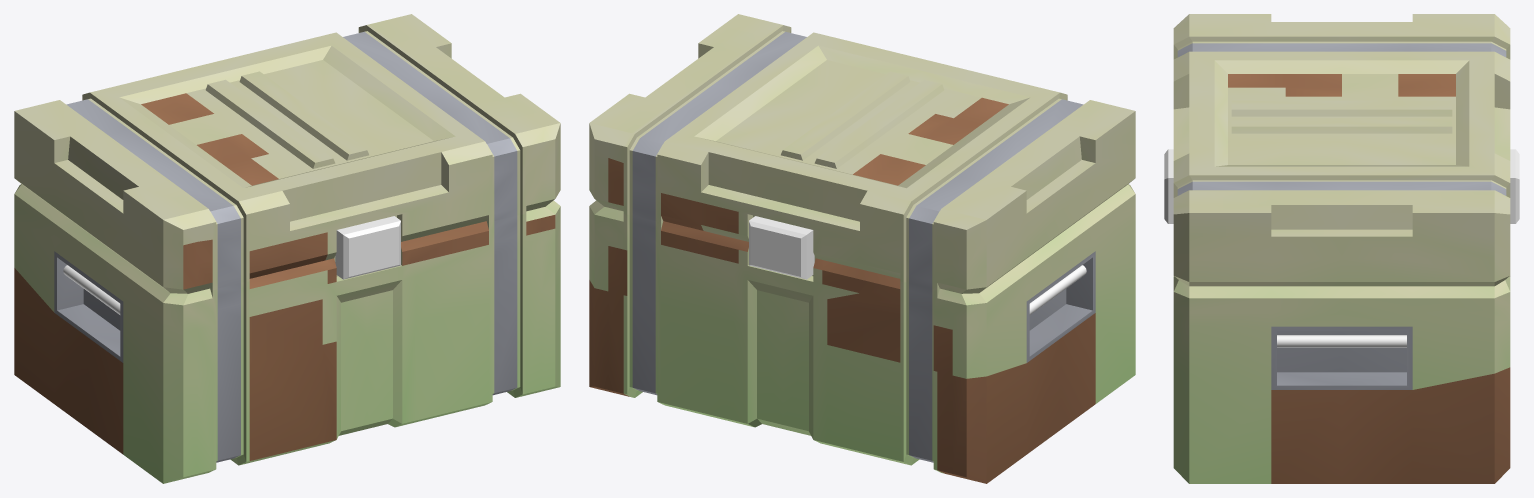
Rendered from Chest.glb.
3 views of the same model, side by side, from view 1: azimuth 30°, elevation 25°; view 2: azimuth 150°, elevation 25°; view 3: azimuth 270°, elevation 25° (orthographic). The views are drawn at different scales.
Visible parts, largest first — view 1: Chest; view 2: Chest; view 3: Chest.
Boxes of the visible parts, left/top/right/bottom form: Chest: left=14, top=14, right=560, bottom=483; Chest: left=589, top=14, right=1135, bottom=483; Chest: left=1164, top=14, right=1519, bottom=483.
Size of the model in its own units: 0.6396 by 0.4062 by 0.4829.
